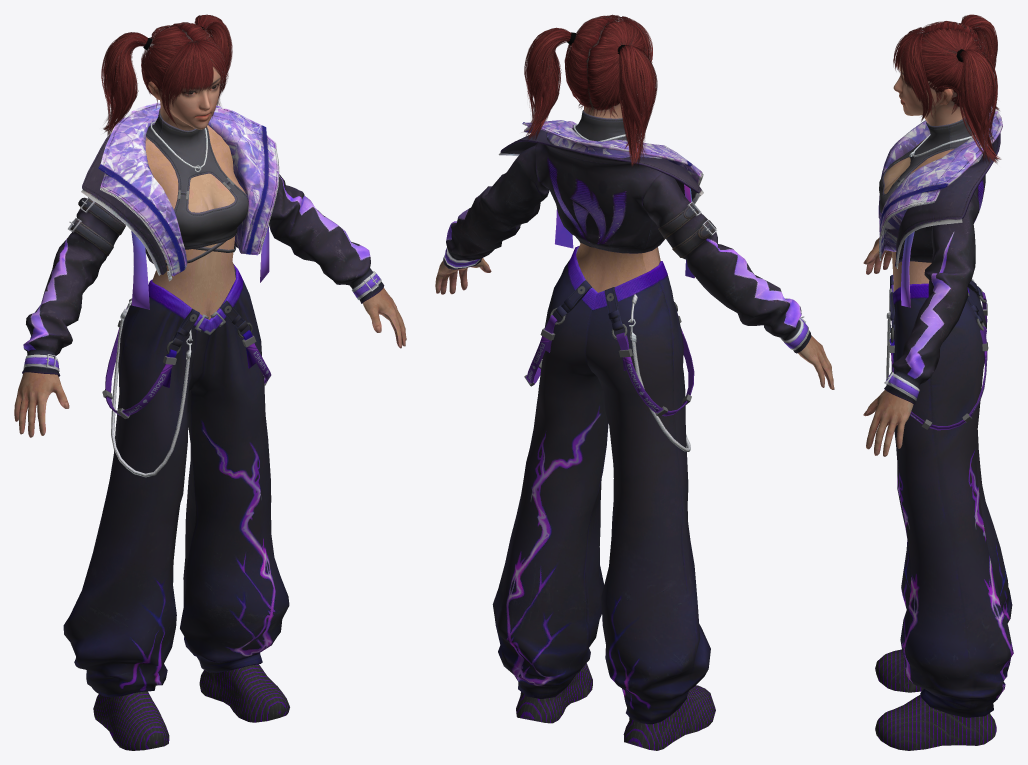
File: pubg_female_purple_set.glb
3 renders of one model, left to right at view 1: azimuth 30°, elevation 25°; view 2: azimuth 150°, elevation 25°; view 3: azimuth 270°, elevation 25°, orthographic. The views are drawn at different scales.
Visible parts, largest first — view 1: Object_8, Object_10, Object_4, Mesh_0034.rip.001_5, Object_12, Object_6; view 2: Object_8, Object_10, Mesh_0034.rip.001_5, Object_12, Object_4; view 3: Object_8, Object_10, Mesh_0034.rip.001_5, Object_12, Object_4, Object_6.
Boxes of the visible parts, <box> form: Object_8: <box>63,264,289,697</box>; Object_10: <box>22,102,384,376</box>; Object_4: <box>14,125,406,437</box>; Mesh_0034.rip.001_5: <box>101,14,232,136</box>; Object_12: <box>93,664,289,750</box>; Object_6: <box>148,29,220,130</box>; Object_8: <box>492,246,710,724</box>; Object_10: <box>443,110,811,353</box>; Mesh_0034.rip.001_5: <box>524,14,657,166</box>; Object_12: <box>516,663,715,750</box>; Object_4: <box>435,242,834,389</box>; Object_8: <box>886,275,1013,717</box>; Object_10: <box>878,106,1002,404</box>; Mesh_0034.rip.001_5: <box>893,14,1001,163</box>; Object_12: <box>875,649,996,750</box>; Object_4: <box>863,138,953,456</box>; Object_6: <box>893,32,964,152</box>.
Bounding box in the file's own units: 1.07 × 1.82 × 0.3618.
6 materials, 6 textured.
